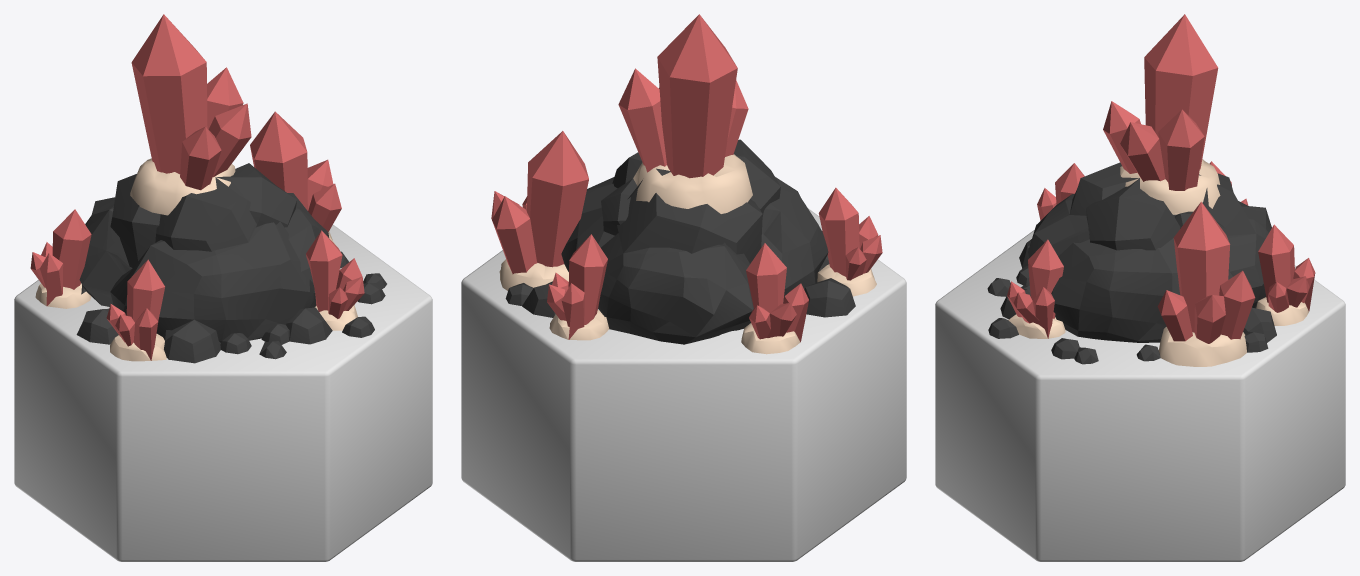
Rendered from cyl3.fbx.
The picture shows the model from 3 angles, left to right: view 1: azimuth 30°, elevation 25°; view 2: azimuth 150°, elevation 25°; view 3: azimuth 270°, elevation 25°; orthographic projection. The views are drawn at different scales.
Visible parts, largest first — view 1: Object003; view 2: Object003; view 3: Object003.
Boxes of the visible parts, left/top/right/bottom form: Object003: left=14, top=14, right=432, bottom=561; Object003: left=461, top=14, right=906, bottom=561; Object003: left=935, top=14, right=1345, bottom=561.
Size of the model in its own units: 173 by 244 by 199.
